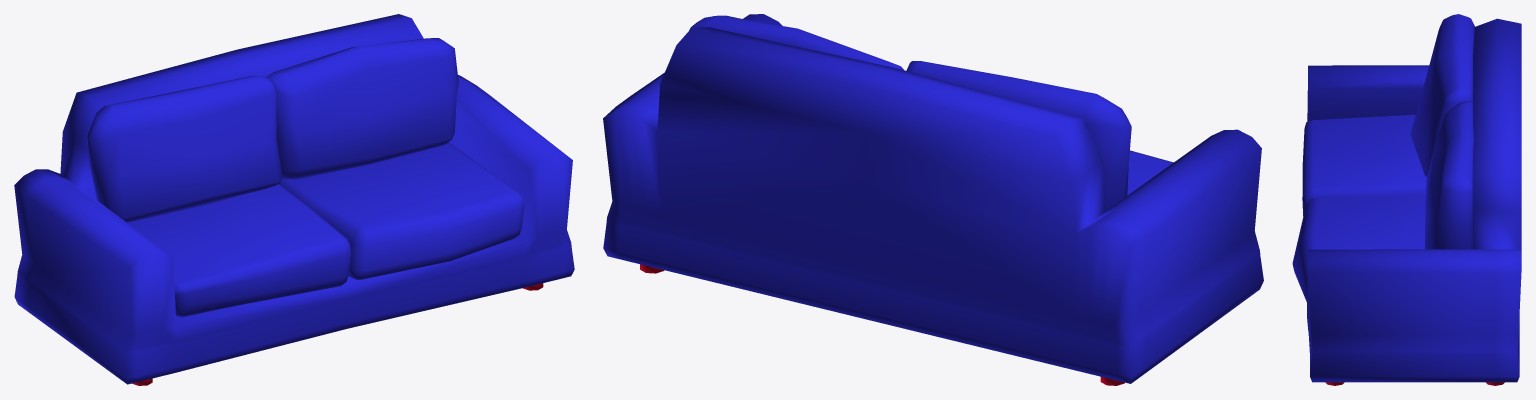
The model's file is CouchArramged.fbx.
3 views of the same model, side by side, from view 1: azimuth 30°, elevation 25°; view 2: azimuth 150°, elevation 25°; view 3: azimuth 270°, elevation 25° (orthographic). The views are drawn at different scales.
Visible parts, largest first — view 1: Legs; view 2: Legs; view 3: Legs.
Boxes of the visible parts, x1,y1,x2,y2 form: Legs: (14, 14, 574, 385); Legs: (603, 14, 1263, 385); Legs: (1292, 14, 1521, 385).
Bounding box in the file's own units: 187 × 86.91 × 87.76.
